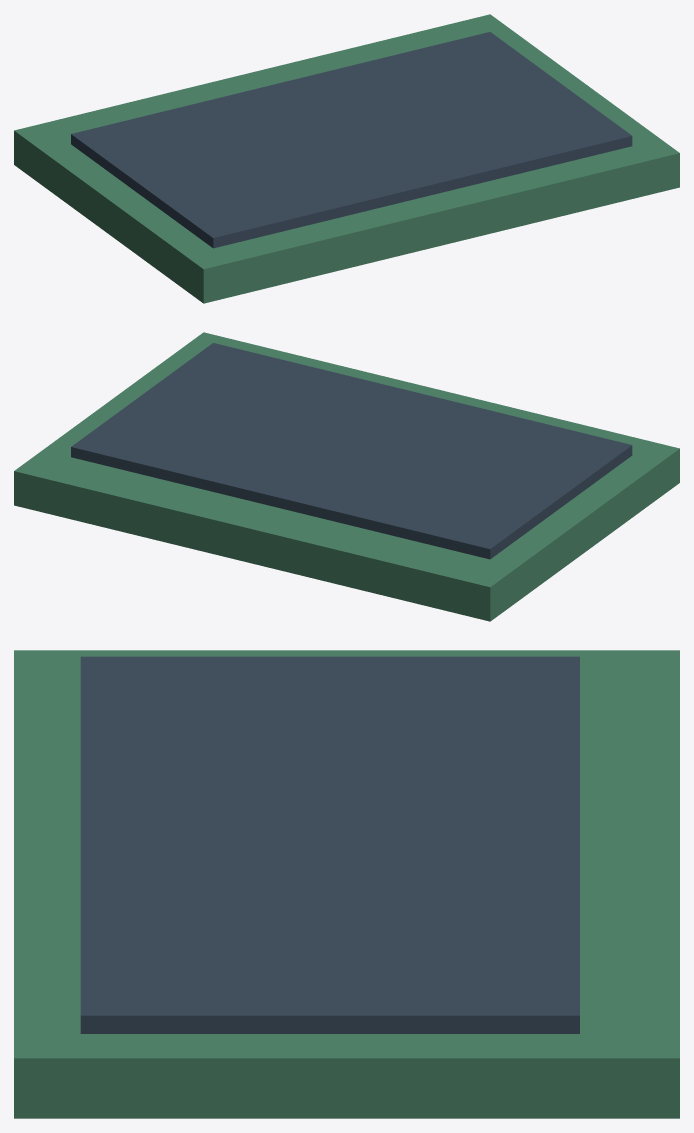
The picture shows the model from 3 angles, top to bottom: view 1: azimuth 30°, elevation 25°; view 2: azimuth 150°, elevation 25°; view 3: azimuth 270°, elevation 25°; orthographic projection. The views are drawn at different scales.
Visible parts, largest first — view 1: st7789-20-display, st7789-20-pcb; view 2: st7789-20-display, st7789-20-pcb; view 3: st7789-20-display, st7789-20-pcb.
Part boxes in pixels (box(x1,y1,x2,y2)): st7789-20-display: box(71, 32, 632, 248); st7789-20-pcb: box(14, 14, 679, 303); st7789-20-display: box(71, 343, 632, 559); st7789-20-pcb: box(14, 332, 679, 621); st7789-20-display: box(80, 656, 579, 1033); st7789-20-pcb: box(14, 650, 679, 1118).
Size of the model in its own units: 0.058 by 0.0052 by 0.04.
